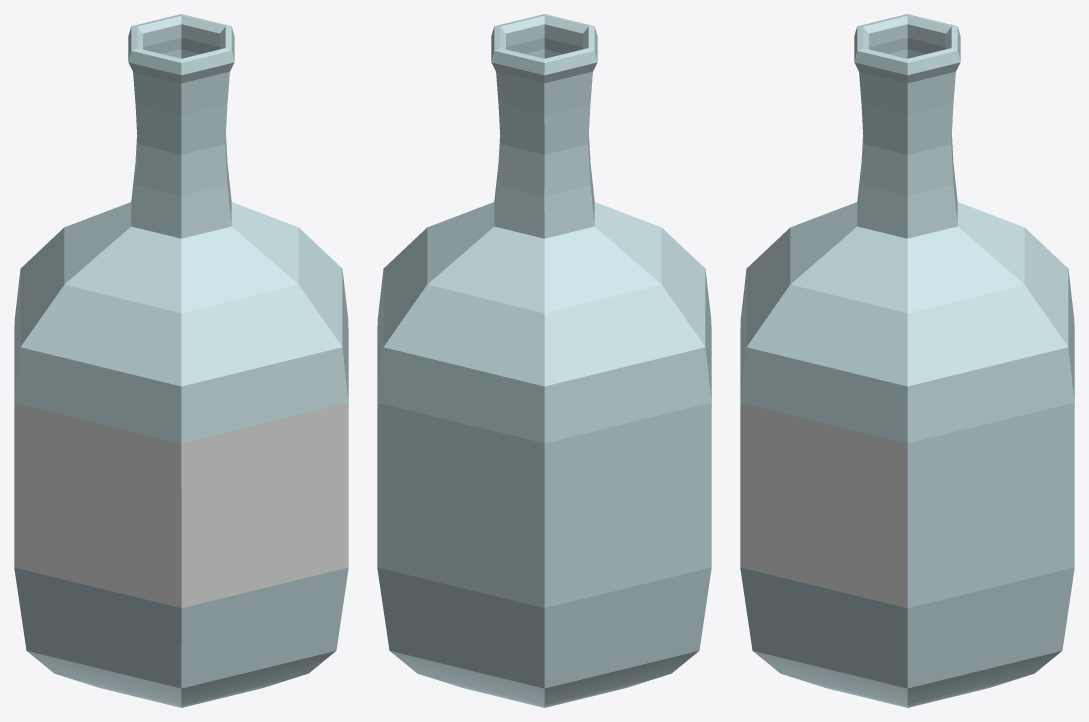
File: Potion3.fbx
The picture shows the model from 3 angles, left to right: view 1: azimuth 30°, elevation 25°; view 2: azimuth 150°, elevation 25°; view 3: azimuth 270°, elevation 25°; orthographic projection.
Parts seen in each view (by area): view 1: pSphere2; view 2: pSphere2; view 3: pSphere2.
Part boxes in pixels (x1,y1,x2,y2): pSphere2: (14,14,348,707); pSphere2: (377,14,711,707); pSphere2: (740,14,1074,707).
Size of the model in its own units: 0.0503 by 0.0922 by 0.0436.
